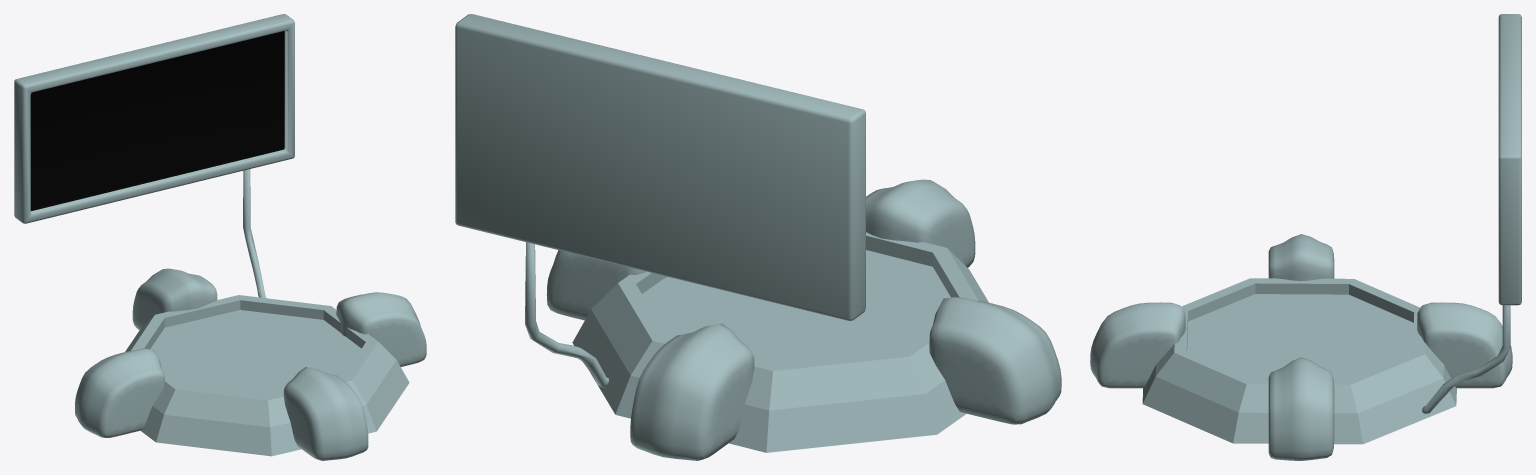
File: lab_scanner.fbx
The picture shows the model from 3 angles, left to right: view 1: azimuth 30°, elevation 25°; view 2: azimuth 150°, elevation 25°; view 3: azimuth 270°, elevation 25°; orthographic projection. The views are drawn at different scales.
Parts seen in each view (by area): view 1: Cylinder.022; view 2: Cylinder.022; view 3: Cylinder.022.
Part boxes in pixels (x1,y1,x2,y2): Cylinder.022: [14, 14, 426, 460]; Cylinder.022: [455, 14, 1061, 460]; Cylinder.022: [1090, 14, 1521, 460].
Size of the model in its own units: 249 by 190 by 254.
